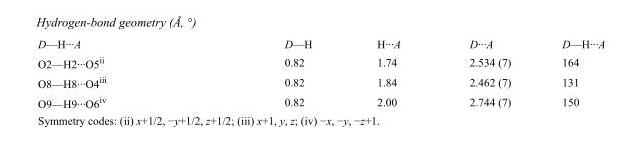table: (37, 37, 604, 109)
table column: (37, 37, 194, 109), (194, 37, 343, 109), (434, 37, 535, 109), (343, 37, 434, 109), (535, 37, 604, 109)
table row: (37, 71, 604, 91), (37, 52, 604, 71), (37, 91, 604, 109), (37, 37, 604, 52)
